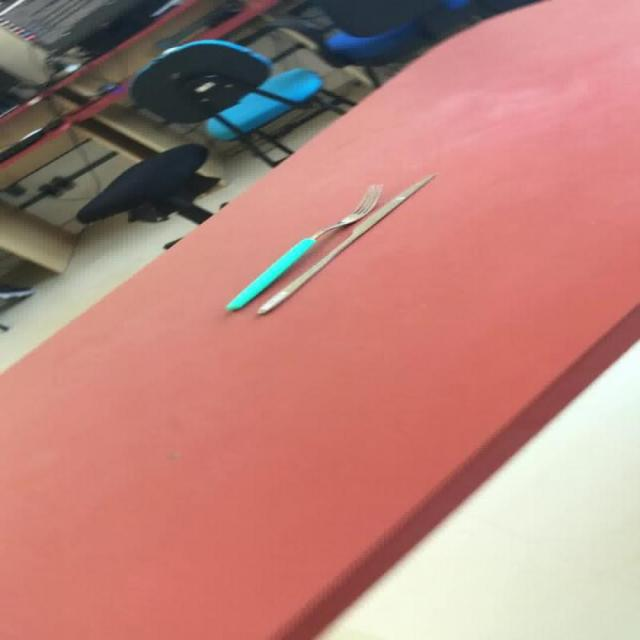Fork: (223, 182, 383, 312)
Knife: (254, 172, 437, 316)
